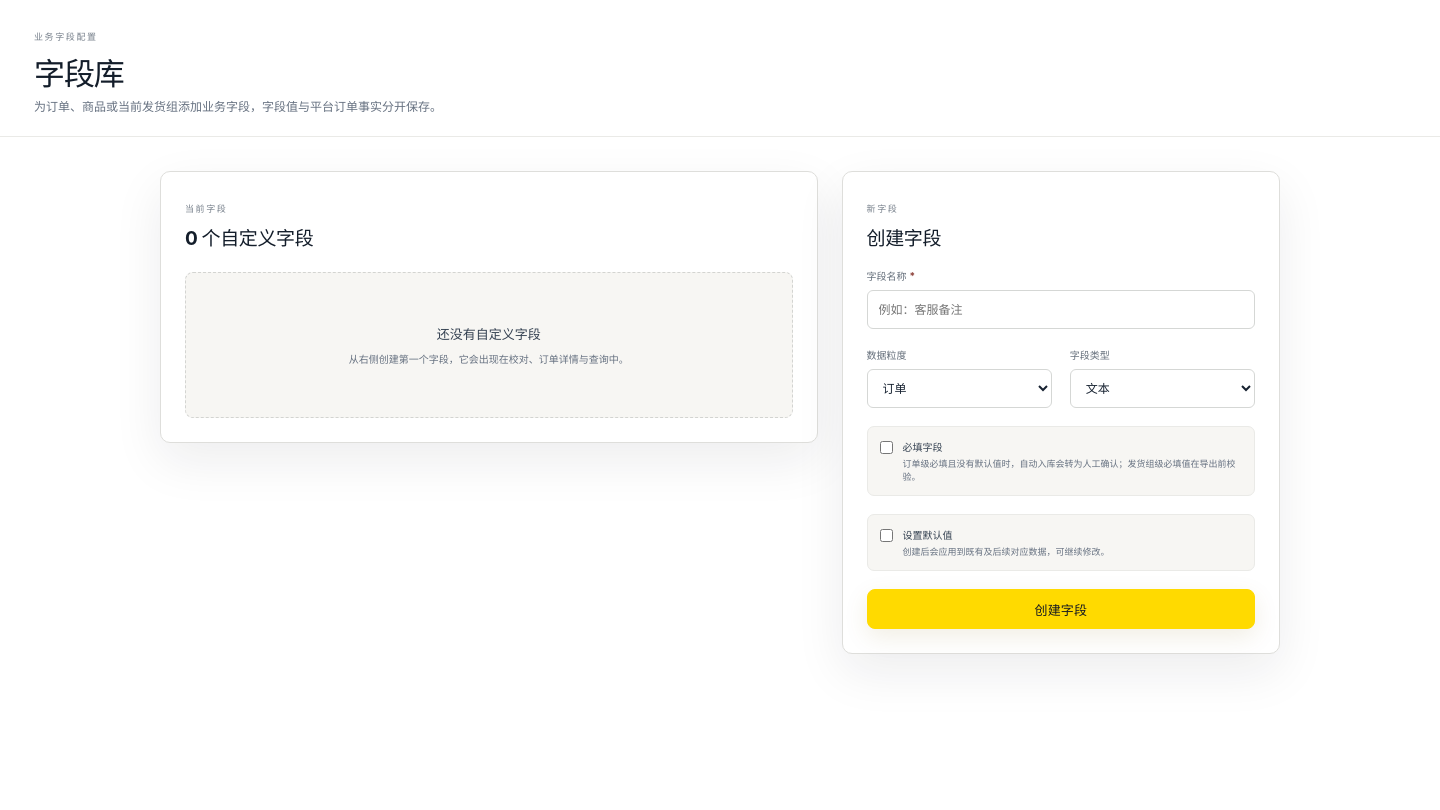
Test case: 自定义字段创建器 › 金额默认值显示非法精度时不能提交上一次合法值
The width and height of the screenshot is (1440, 810).
Step 1. Type "附加成本" into the field labelled "字段名称" → (1061, 310), box [867,290,1255,329]
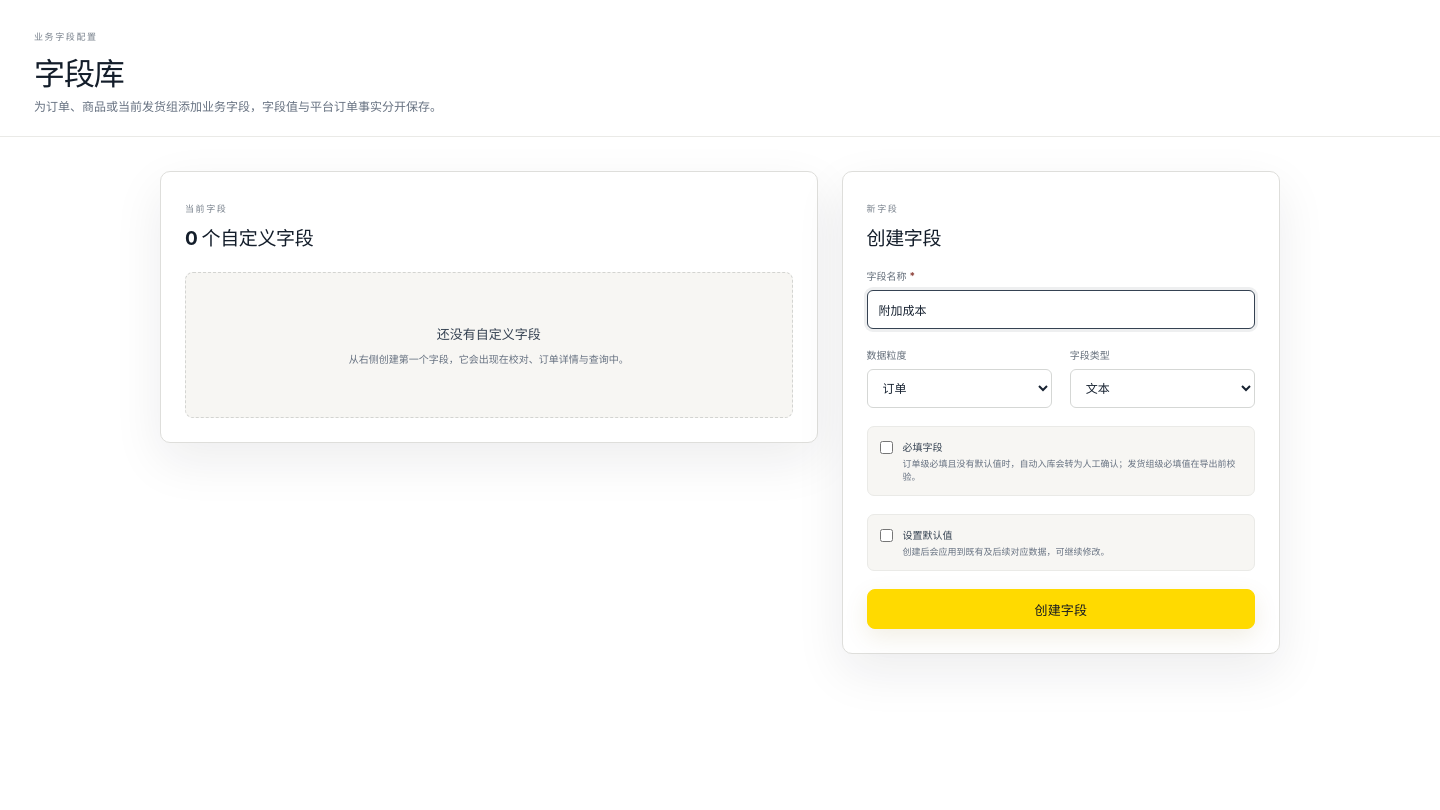
Step 2. Select "金额" in the dropdown labelled "字段类型" → (1162, 388), box [1070,369,1255,408]
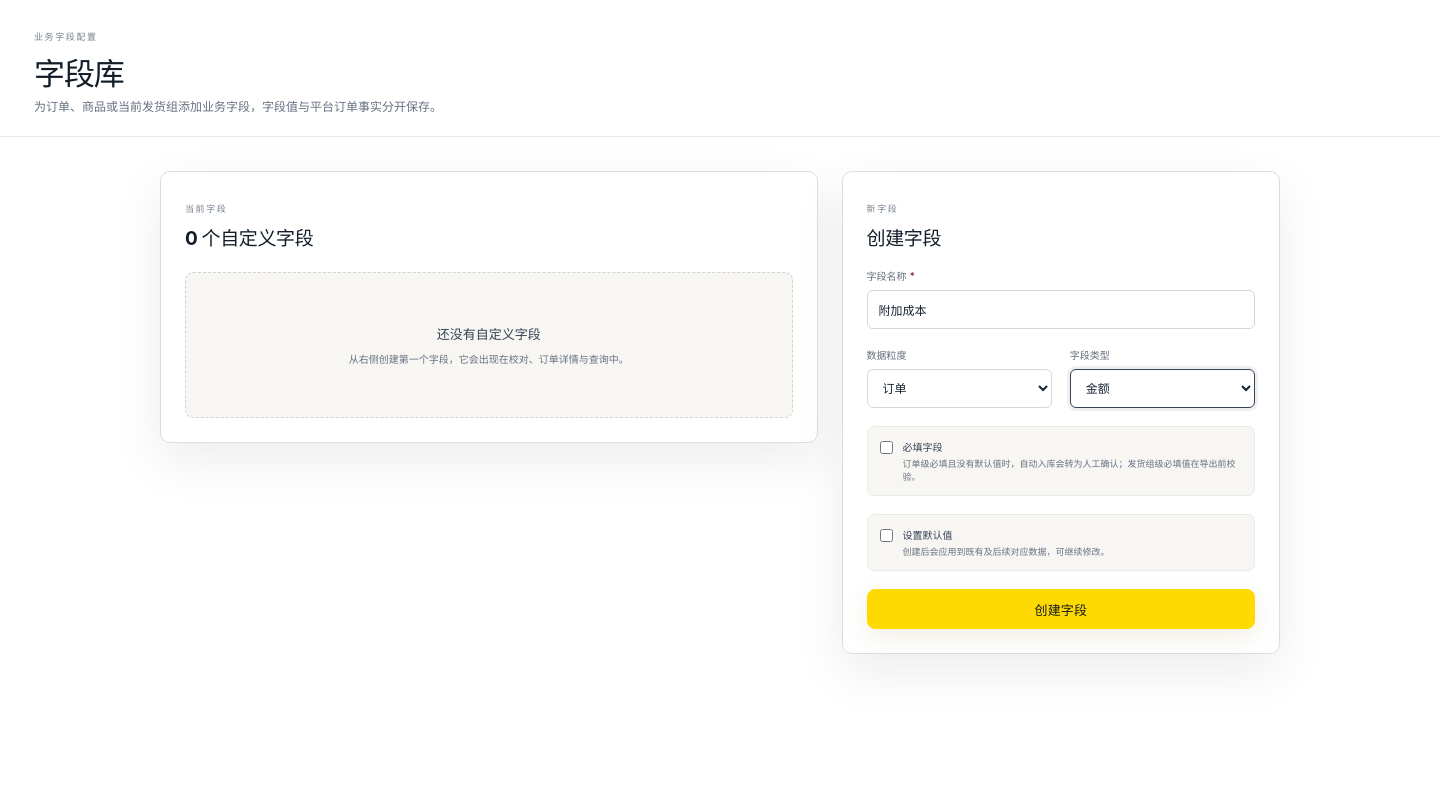
Step 3. Click the checkbox labelled "设置默认值 创建后会应用到既有及后续对应数据，可继续修改。" → (886, 536), box [880,529,893,542]
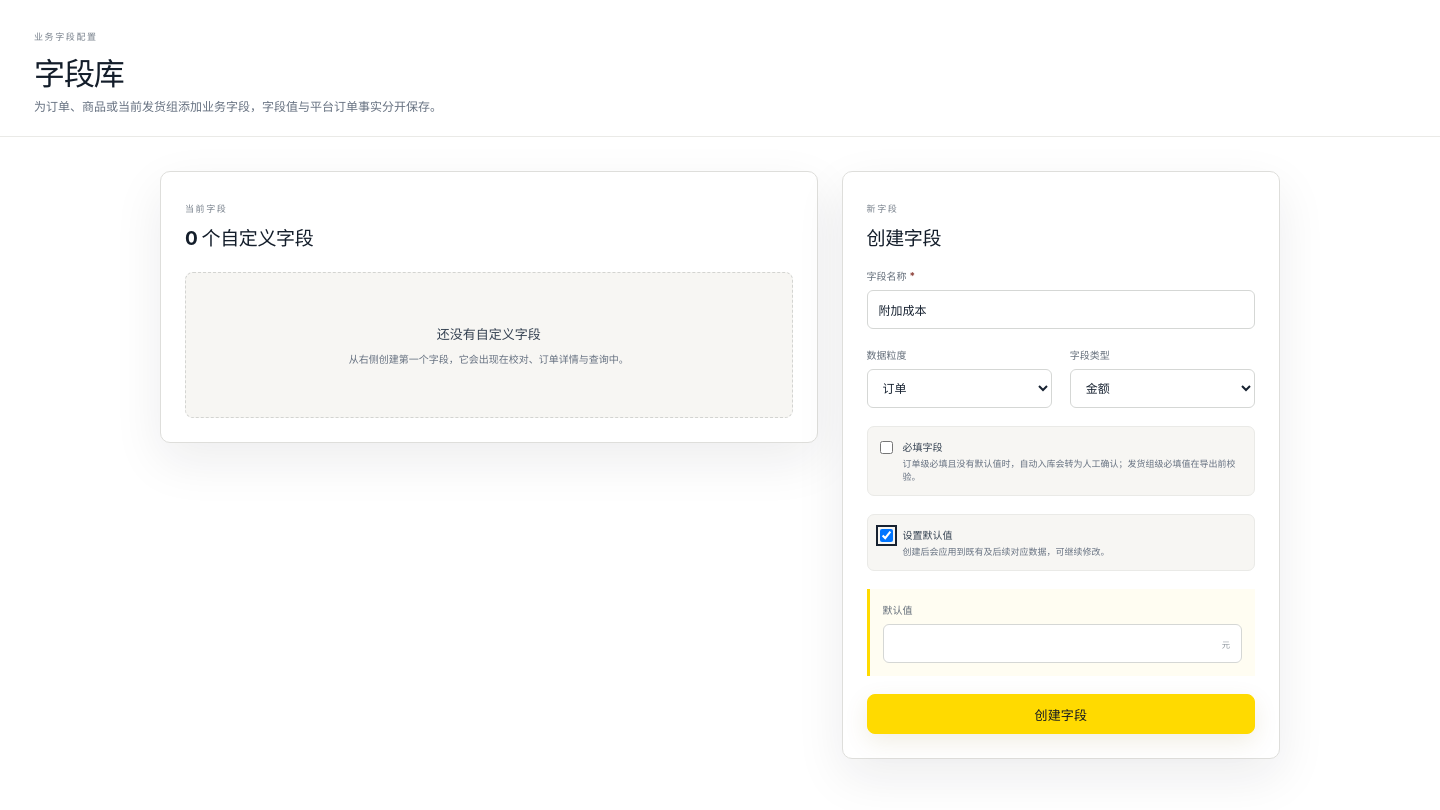
Step 4. Type "1.00" into the field labelled "默认值" → (1062, 644), box [883,624,1242,663]
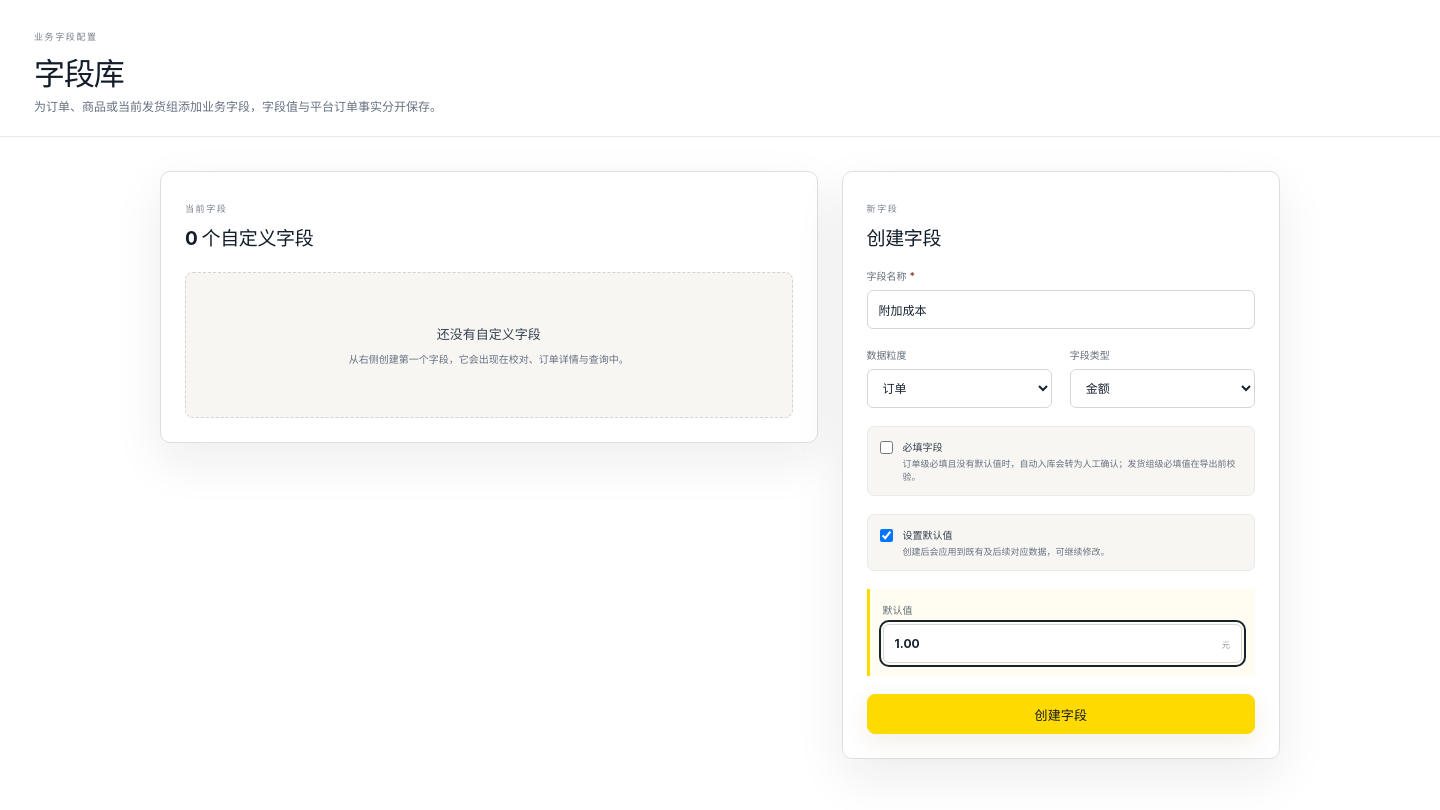
Step 5. Replace the text in the field labelled "默认值" with "1.005" → (1062, 644), box [883,624,1242,663]
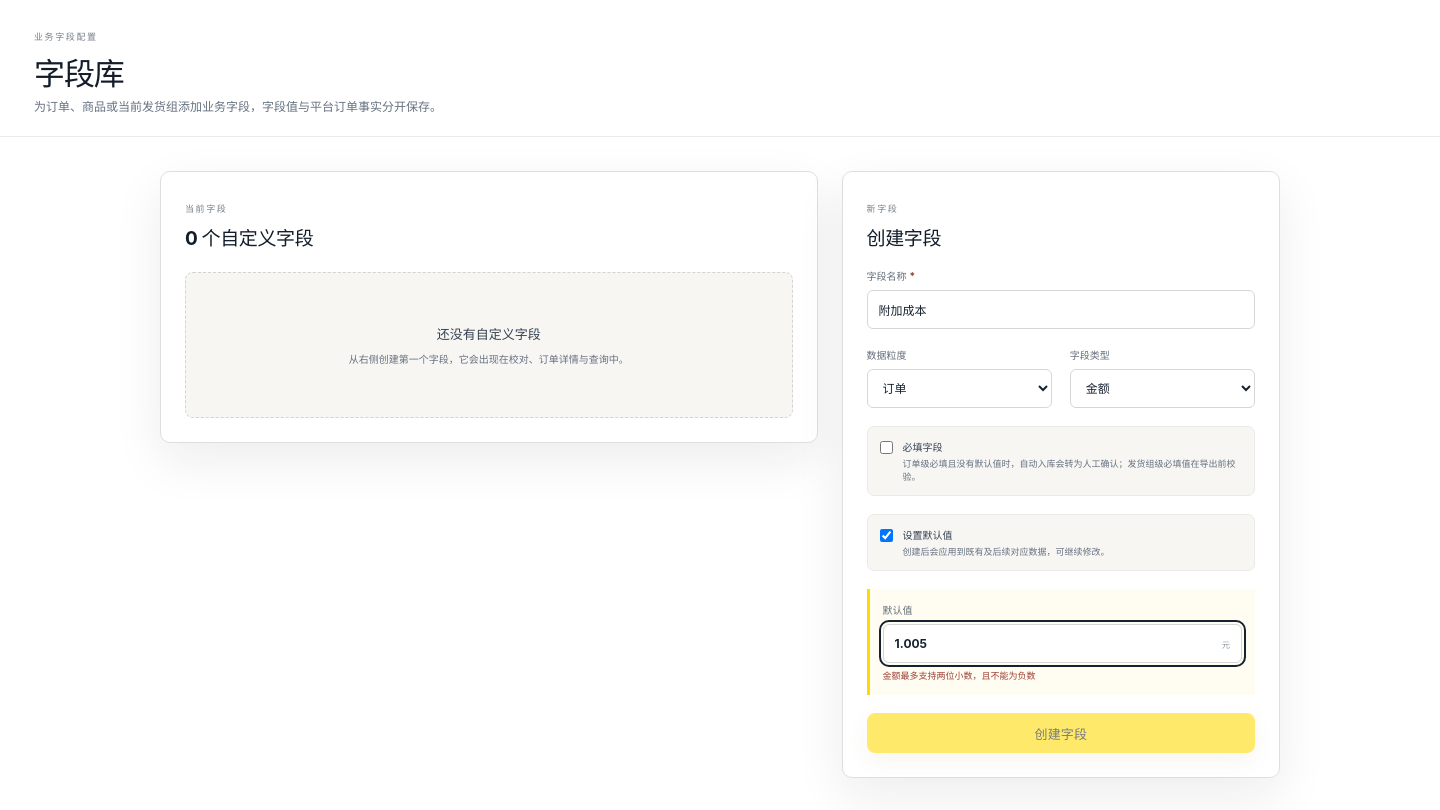
Result: the button "创建字段" is disabled at [867,713,1255,753]
